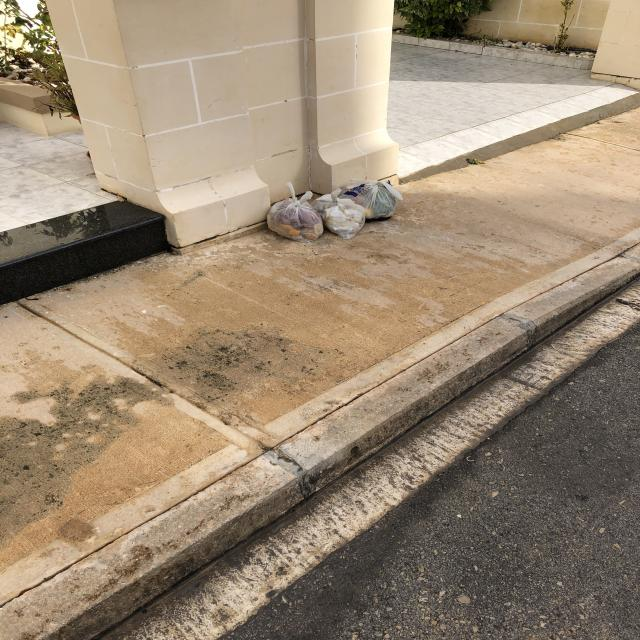Organic Waste -White Bag-: (312, 189, 369, 241), (265, 195, 325, 244), (341, 178, 405, 223)
